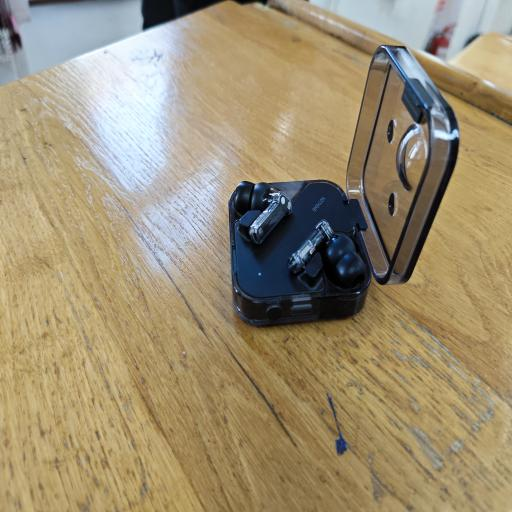CASTI: (224, 40, 463, 332)
